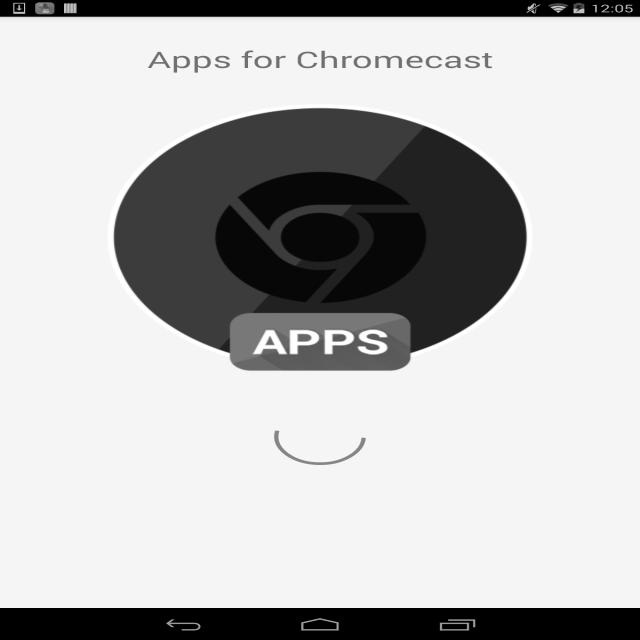ImageButton: (9, 17, 68, 59)
ImageView: (3, 94, 637, 184), (12, 334, 166, 387), (13, 421, 103, 478), (13, 491, 103, 548), (13, 561, 103, 618), (13, 195, 103, 251), (13, 265, 103, 321), (576, 205, 627, 238), (576, 276, 627, 308), (576, 432, 627, 464), (576, 502, 627, 534), (576, 572, 627, 604)
RatingBar: (171, 350, 257, 360)
TextView: (114, 459, 570, 486), (10, 149, 636, 168), (17, 389, 628, 406), (114, 599, 485, 626), (10, 168, 636, 184), (114, 572, 460, 599), (114, 432, 413, 459), (114, 302, 410, 329), (114, 206, 405, 232), (114, 276, 404, 302), (114, 502, 376, 529), (114, 529, 361, 556), (114, 232, 328, 259), (171, 335, 443, 350), (85, 29, 290, 47), (543, 355, 628, 378), (580, 22, 632, 54), (529, 22, 580, 54), (200, 69, 312, 82), (37, 69, 133, 82), (114, 194, 186, 206), (114, 264, 186, 276), (114, 562, 193, 572), (568, 69, 627, 82), (114, 422, 186, 432), (114, 492, 186, 502), (11, 136, 82, 146), (403, 69, 450, 82), (573, 335, 628, 345)
